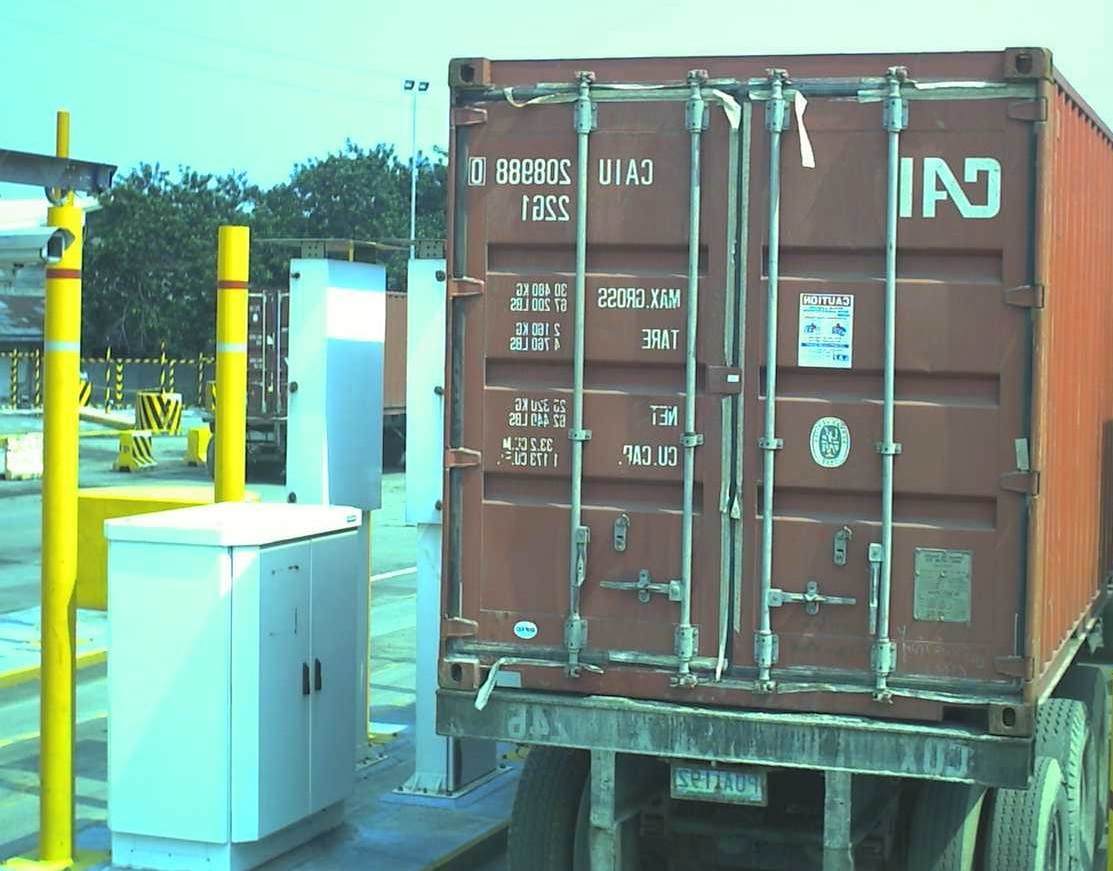container_door: (447, 49, 1052, 740)
